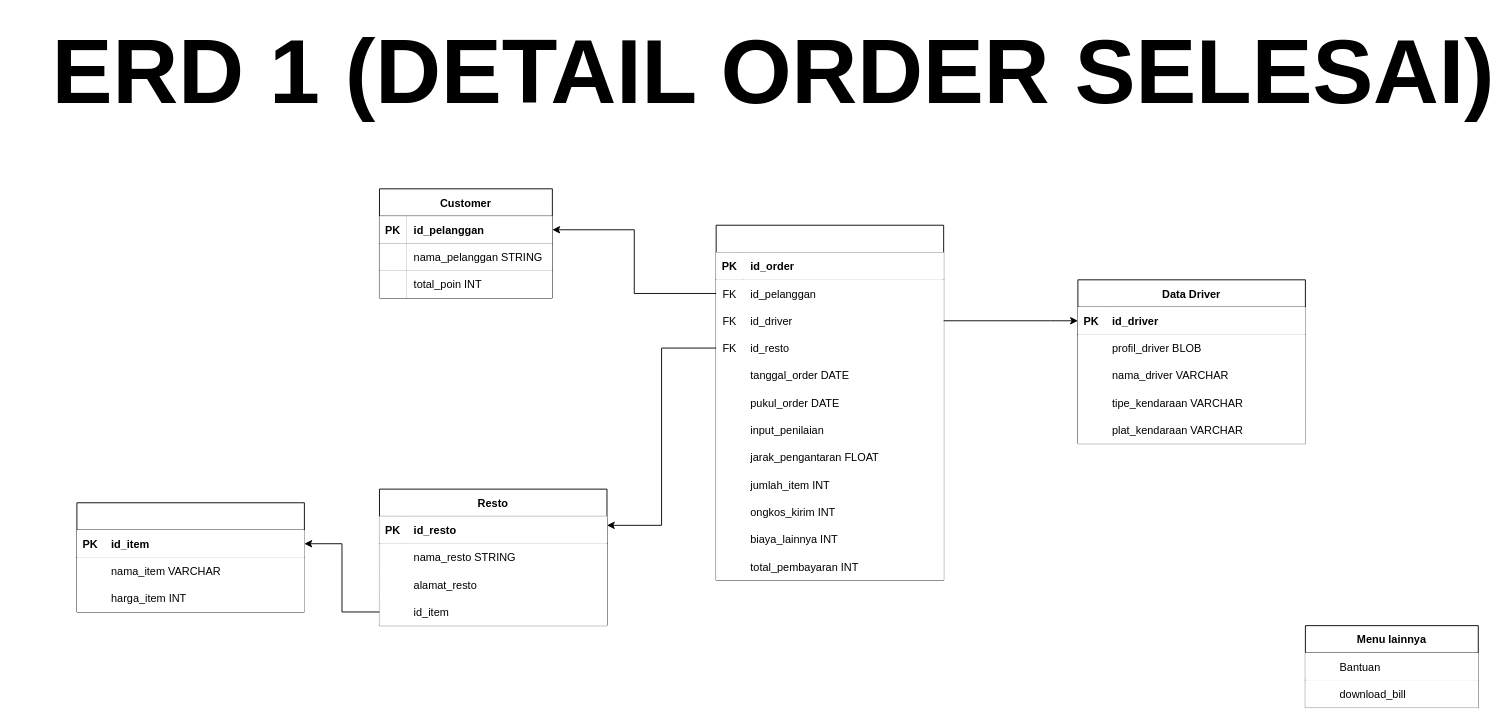
The diagram is 1510 pixels wide and 723 high, and some of its shapes have lost their labels. Each missing label, with the box of its shape:
Detail Order: (715, 224, 944, 580)
Menu Item: (76, 502, 304, 612)
